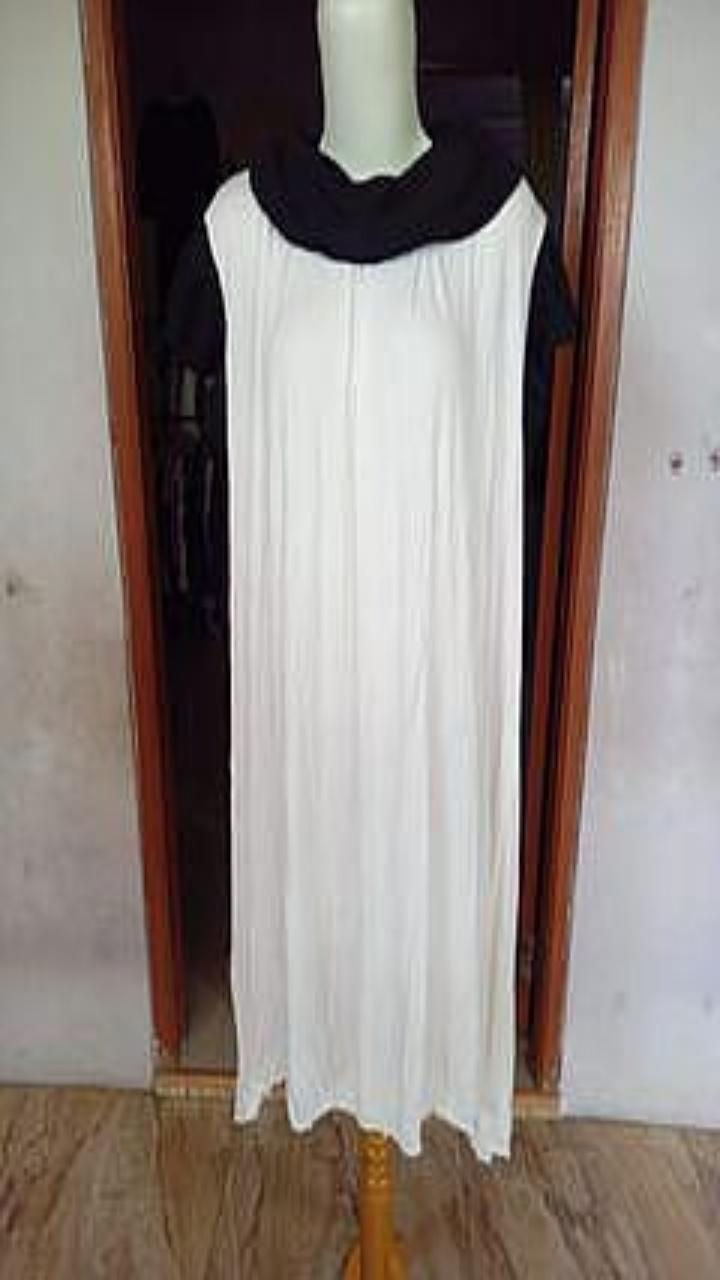Dresses: (205, 134, 546, 1158)
